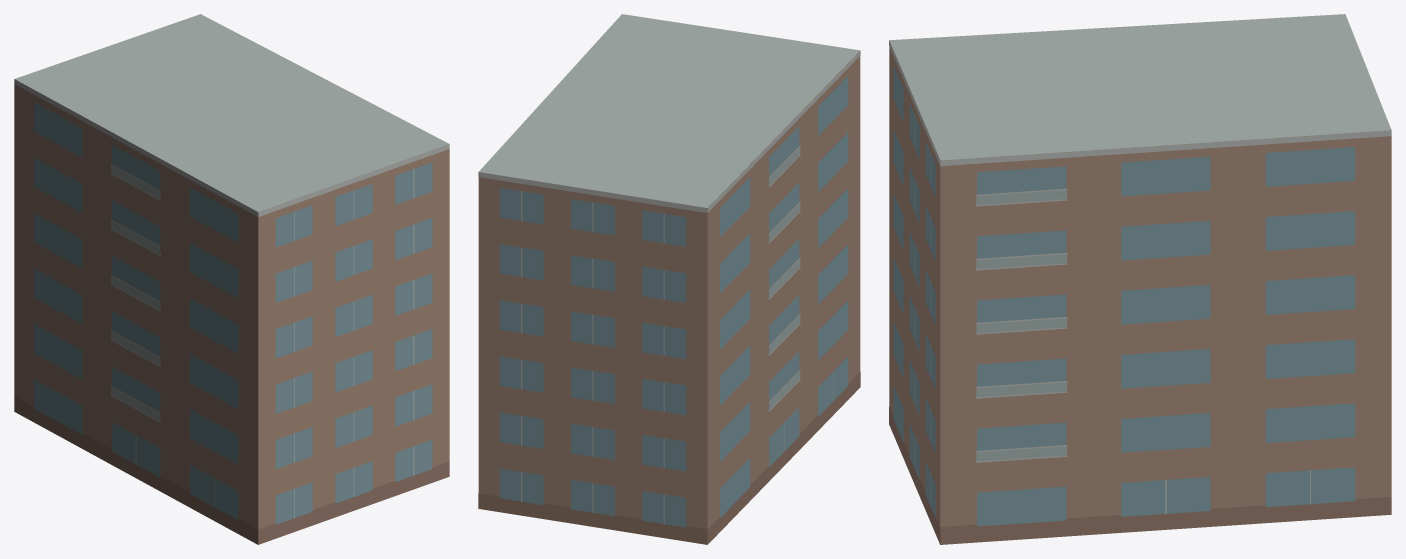
Rendered from survey-upis-32890100.glb.
3 views of the same model, side by side, from view 1: azimuth 30°, elevation 25°; view 2: azimuth 150°, elevation 25°; view 3: azimuth 270°, elevation 25° (orthographic). The views are drawn at different scales.
Visible parts, largest first — view 1: survey-upis-32890100.tmp; view 2: survey-upis-32890100.tmp; view 3: survey-upis-32890100.tmp.
Boxes of the visible parts, x1,y1,x2,y2 form: survey-upis-32890100.tmp: (14, 14, 449, 544); survey-upis-32890100.tmp: (478, 14, 860, 544); survey-upis-32890100.tmp: (889, 14, 1391, 544).
Size of the model in its own units: 13.25 by 16.2 by 19.2.
